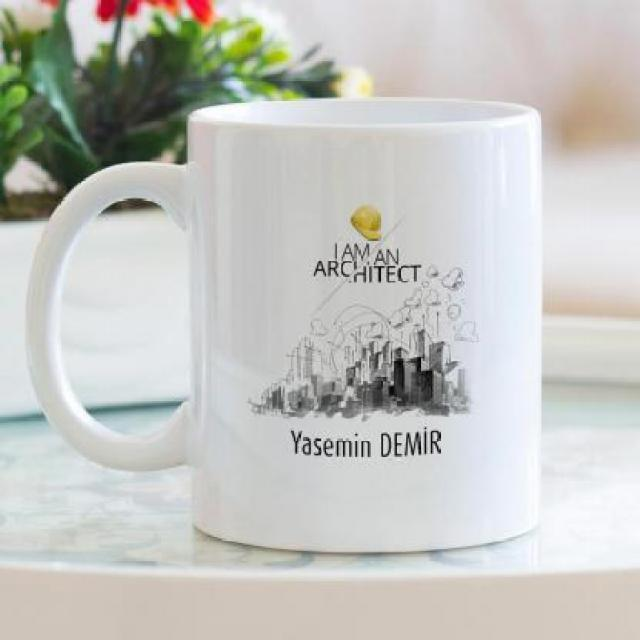taza: (22, 95, 542, 558)
